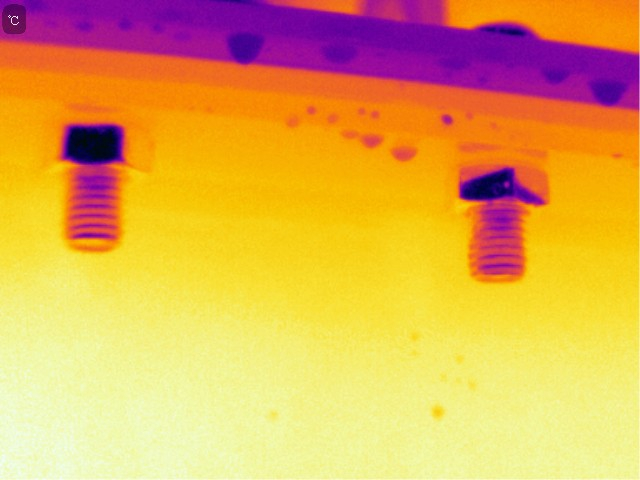Water: (579, 73, 631, 112), (224, 31, 274, 65), (320, 38, 363, 67), (534, 63, 570, 88), (360, 126, 386, 156), (391, 138, 419, 164), (297, 98, 325, 122), (278, 111, 302, 130), (335, 128, 363, 144), (433, 113, 458, 130), (350, 103, 375, 119), (366, 101, 382, 118), (327, 109, 339, 122)
